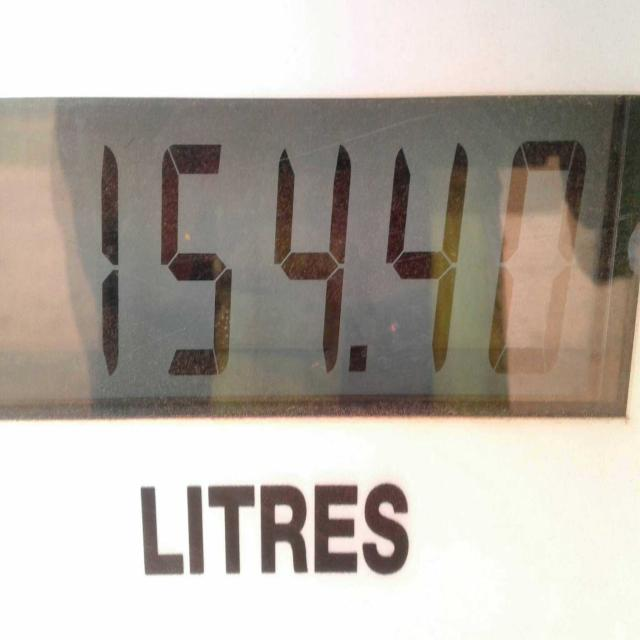.: (350, 344, 370, 374)
0: (494, 135, 582, 372)
1: (97, 142, 128, 378)
4: (383, 138, 469, 380), (272, 148, 348, 374)
5: (160, 144, 234, 384)
